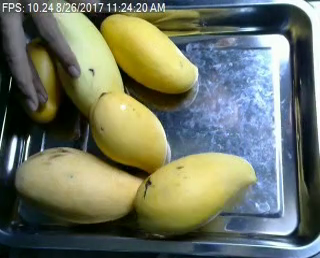Mango: (37, 0, 125, 121), (14, 147, 147, 222), (133, 152, 254, 233), (100, 12, 199, 93), (91, 91, 165, 172), (20, 36, 63, 121)
